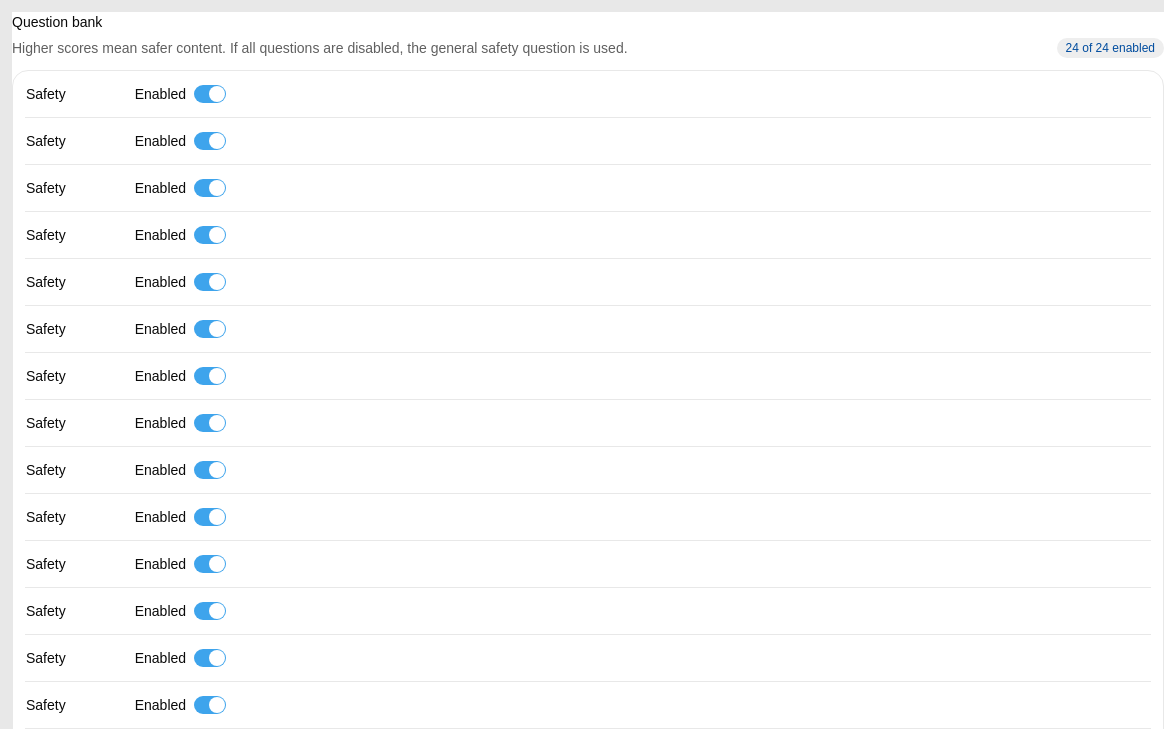
Test: prevents adding beyond 24 questions and does not accept duplicate identifiers
The width and height of the screenshot is (1164, 729).
Click the 2nd button "Safety" at coordinates (72, 141), box x1=25 y1=118 x2=119 y2=164
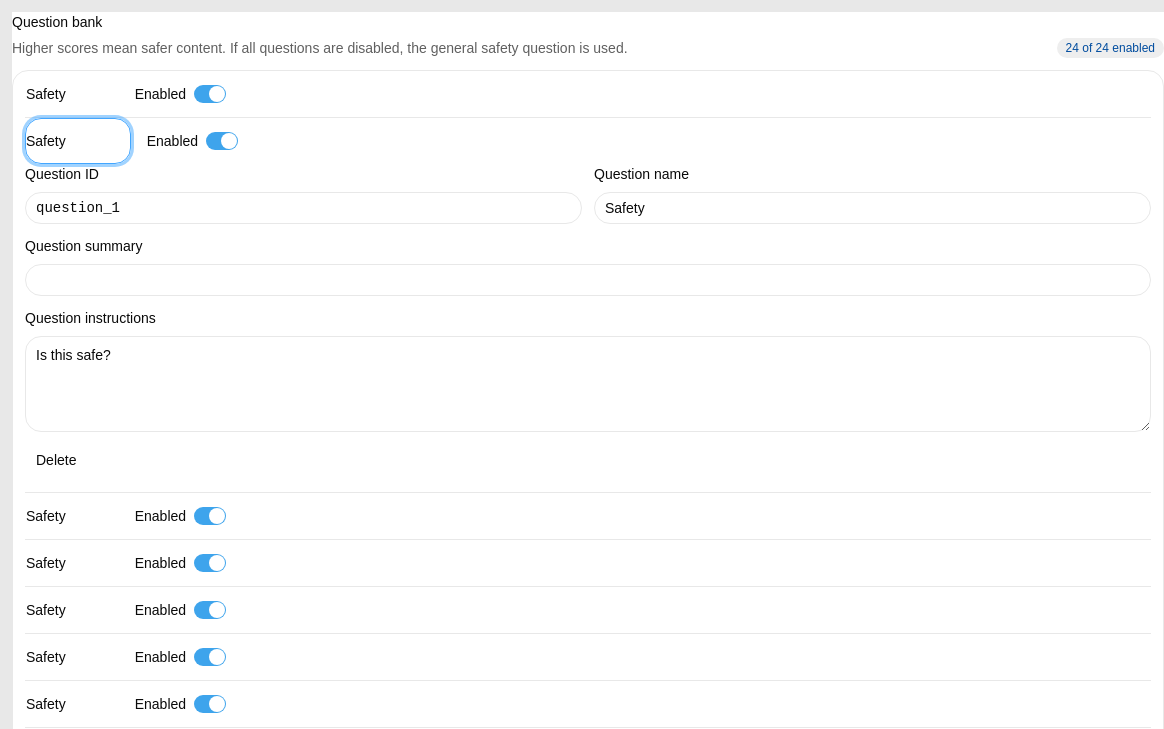
Replace the text in the field named "Question ID" with "question_0" at coordinates (304, 208), box x1=25 y1=192 x2=582 y2=224
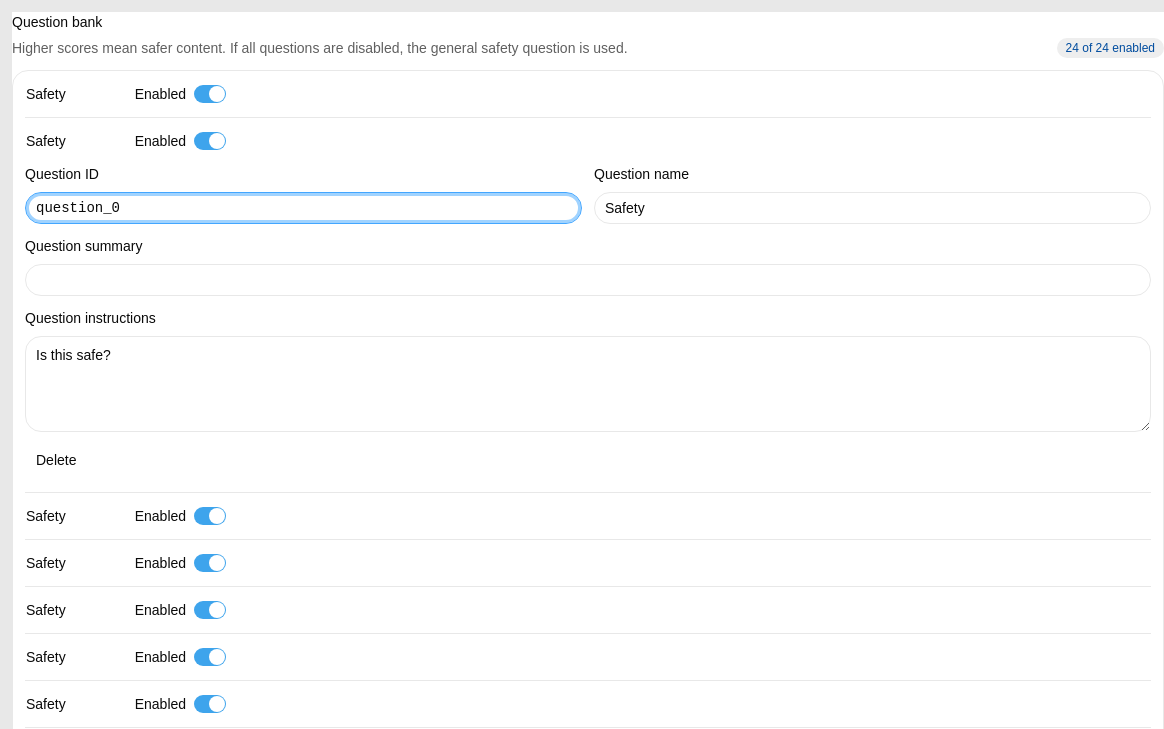
Press Tab
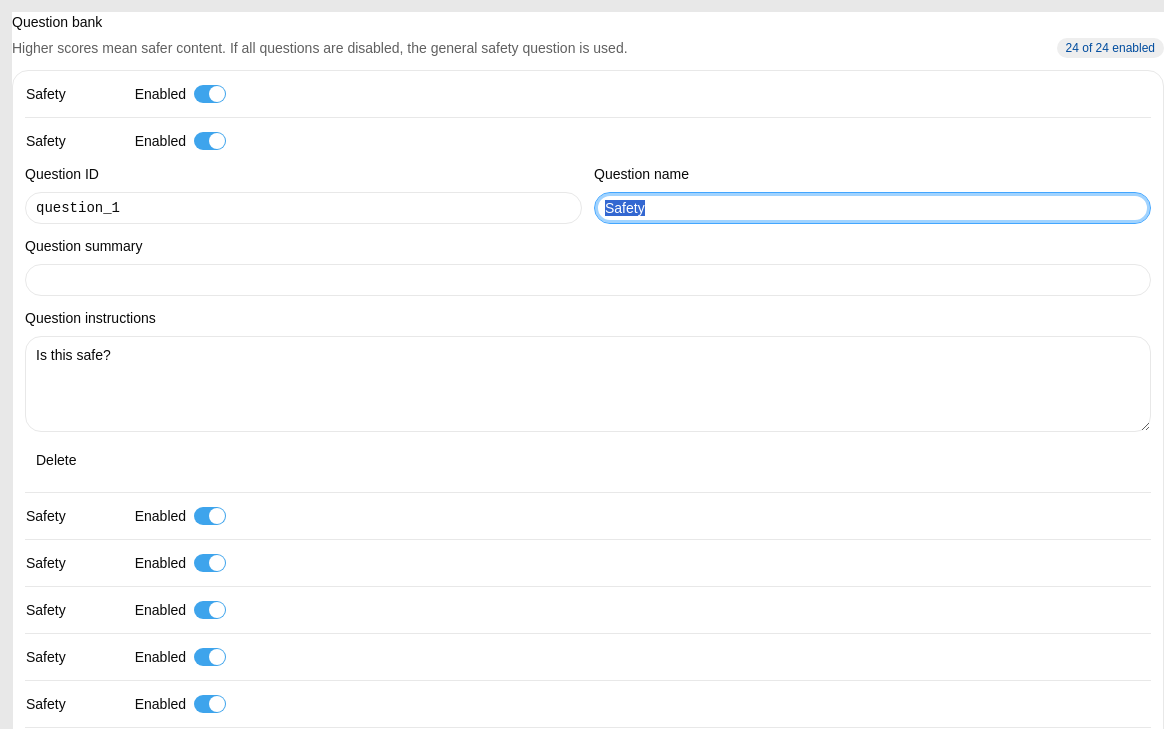
Result: the field named "Question ID" holds "question_1" at x1=25 y1=192 x2=582 y2=224
